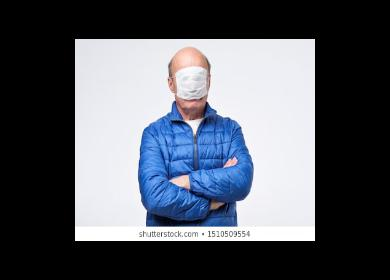mask_weared_incorrect: (172, 60, 212, 106)
